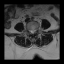CCS_normal: (32, 28, 33, 35)
LFS_normal: (34, 27, 36, 33)
LLS_normal: (33, 28, 34, 34)
RFS_normal: (29, 27, 30, 33)
RLS_normal: (30, 28, 32, 34)
